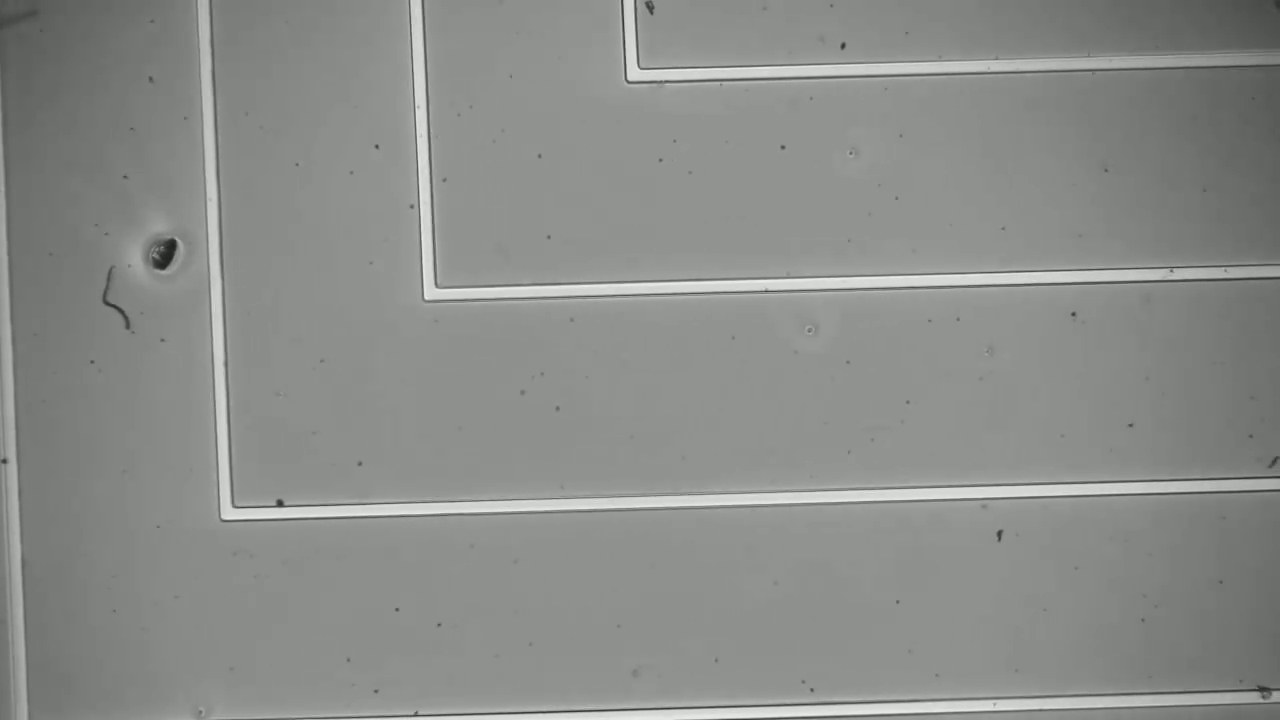stains_enbedded: (1251, 680, 1280, 711)
